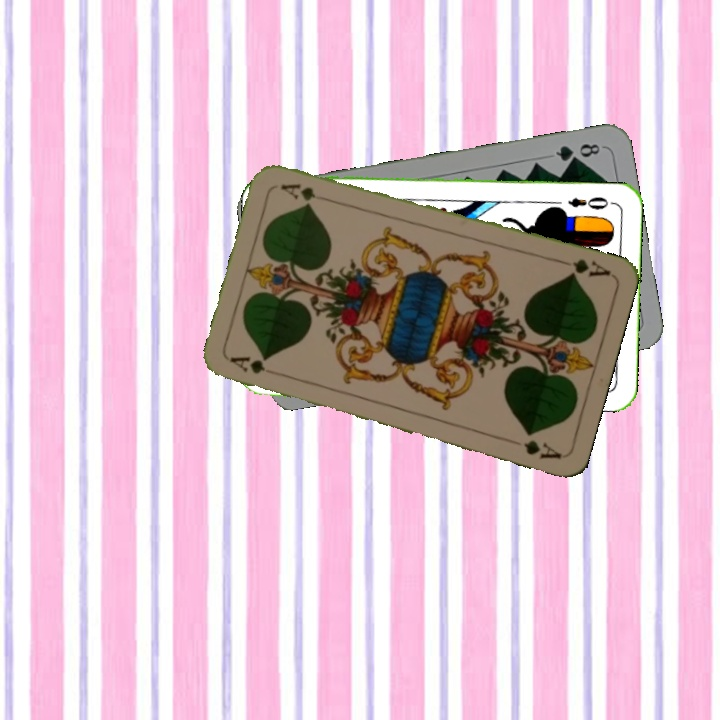EO: (564, 192, 616, 212)
G8: (551, 139, 603, 165)
GA: (555, 255, 613, 280), (226, 352, 268, 377)
